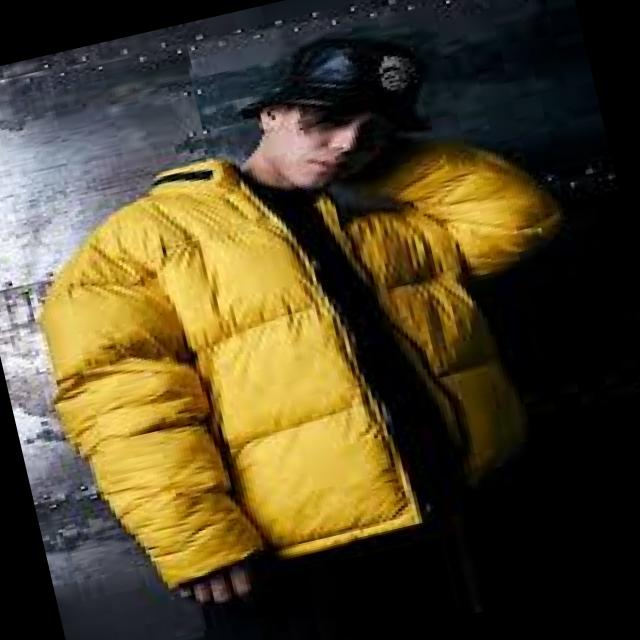Jacket: (0, 99, 628, 611)
